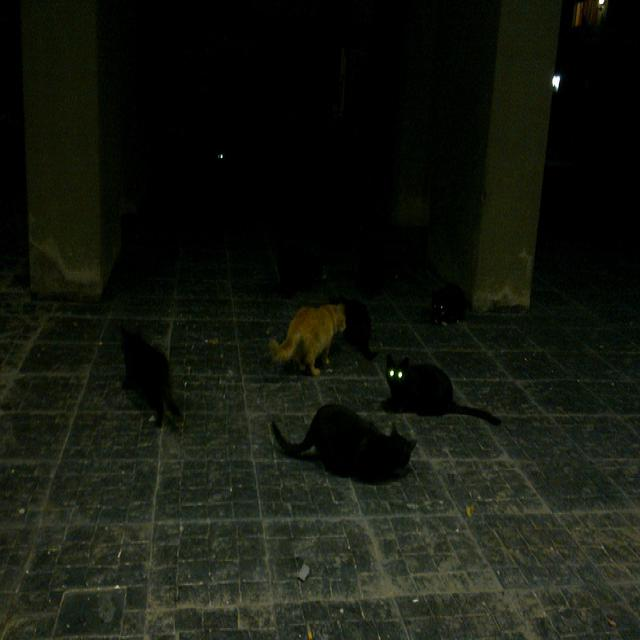Cat: (292, 389, 425, 521), (117, 308, 188, 451), (391, 346, 465, 459), (262, 221, 333, 318), (342, 280, 393, 398), (282, 301, 349, 390), (423, 260, 466, 353)
